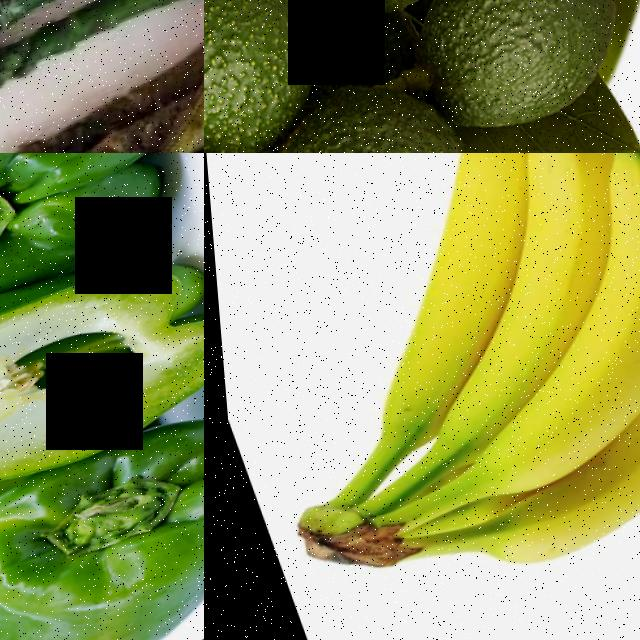asparagus: (0, 0, 204, 130)
avocado: (381, 0, 640, 153), (204, 70, 508, 153), (204, 0, 338, 153), (243, 0, 511, 65)
banana: (204, 153, 640, 640)
bell pepper: (0, 235, 204, 540), (0, 440, 204, 640), (0, 153, 181, 353)
